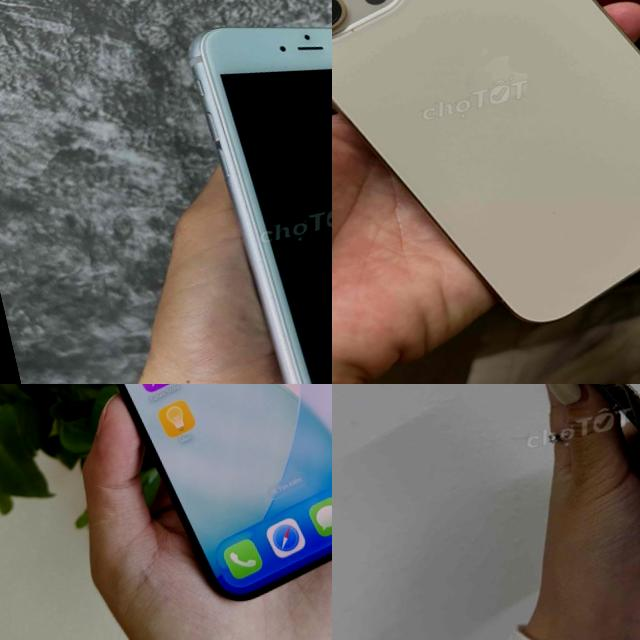gen_12_13: (332, 0, 640, 372), (487, 384, 640, 619)
gen_15: (2, 384, 332, 638)
gen_6: (171, 0, 332, 384)
